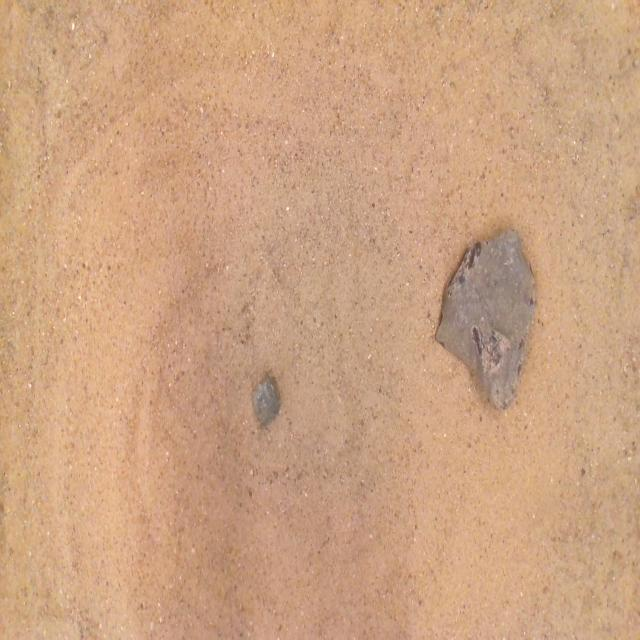rock: (436, 230, 535, 408), (252, 376, 280, 428)
